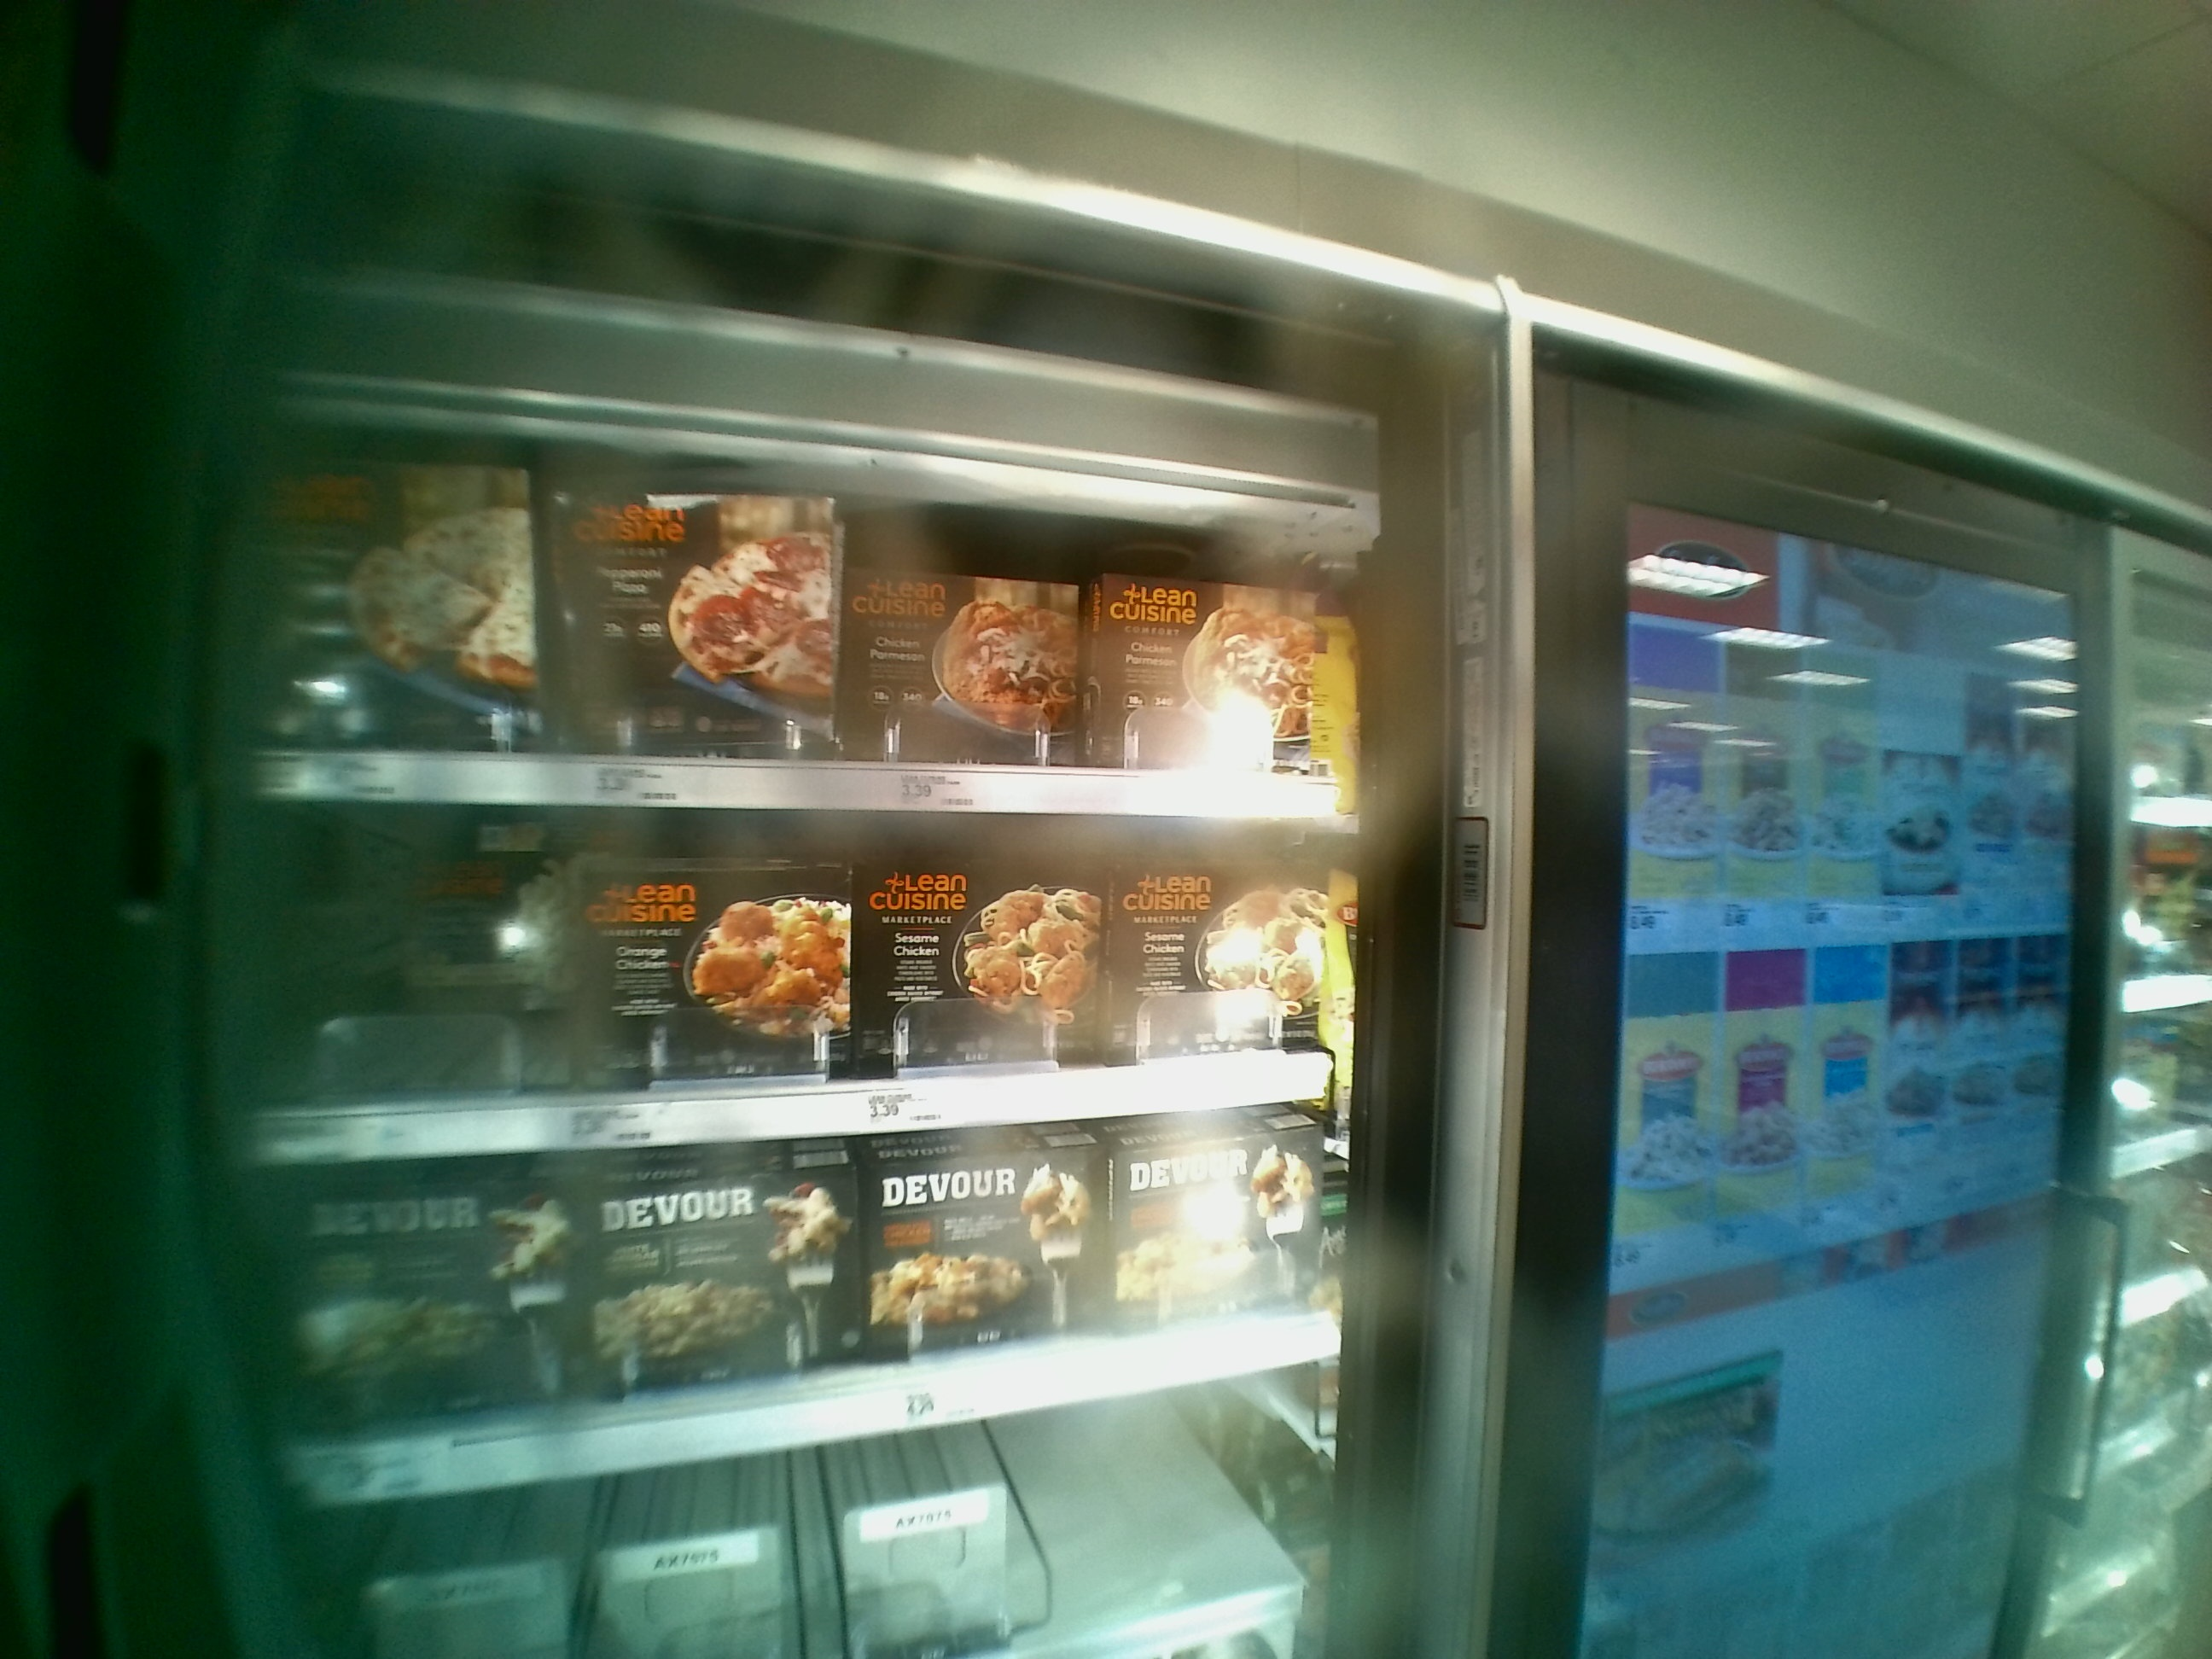Shelf: (270, 373, 1350, 823), (225, 802, 1383, 1168)
